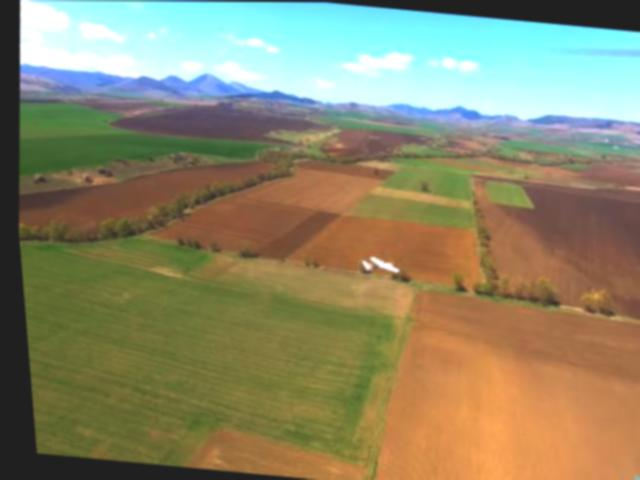uav: (352, 244, 402, 287)
